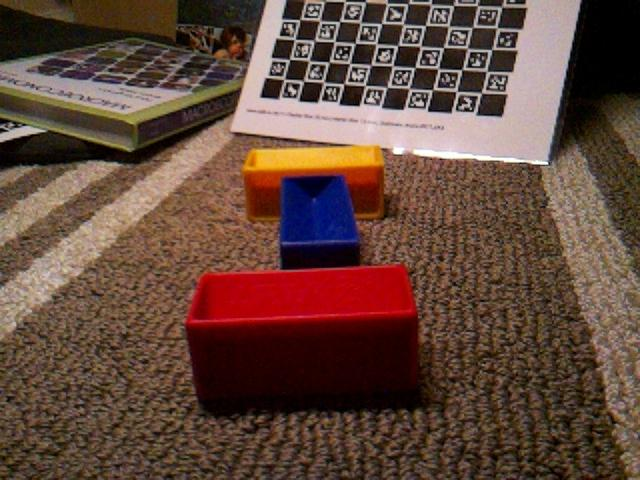blue: (278, 173, 362, 269)
red: (185, 262, 422, 409)
yellow: (241, 144, 387, 223)
